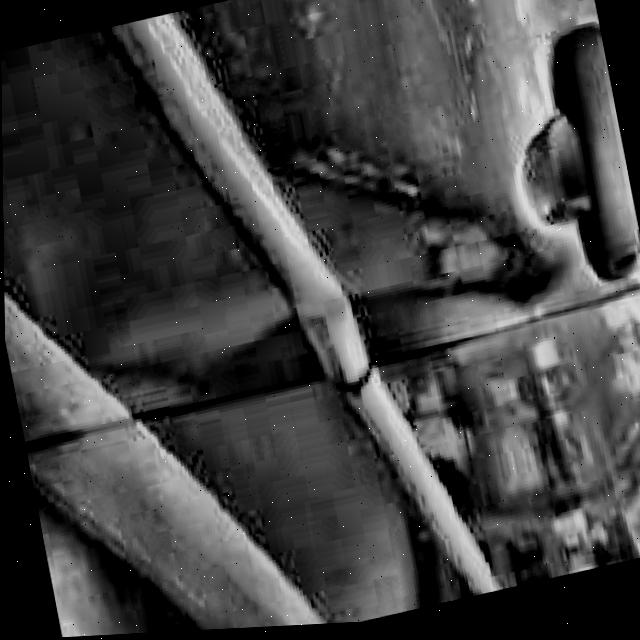door_dent: (122, 129, 565, 405)
